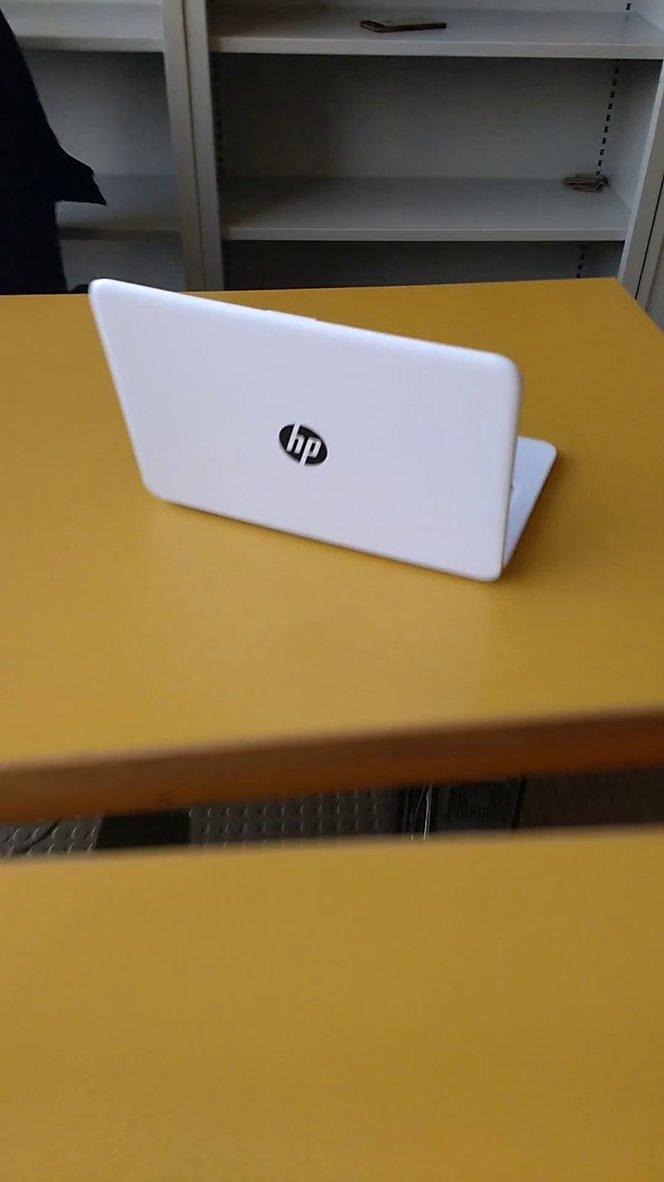laptop: (75, 266, 573, 595)
